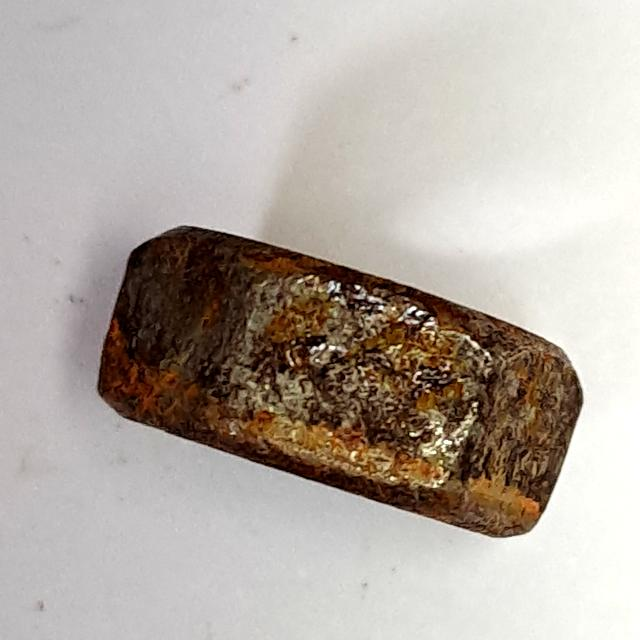Side_Rust: (77, 207, 599, 555)
